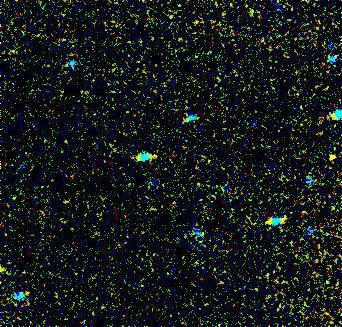star: (320, 143, 342, 173)
